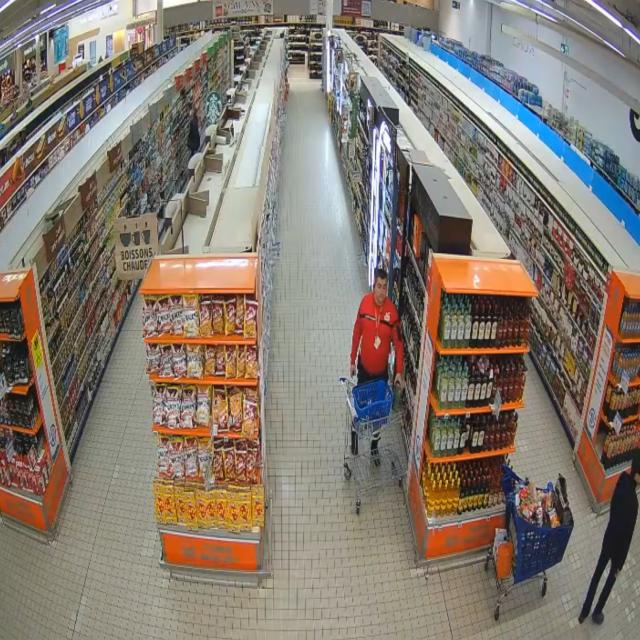article: (392, 383, 401, 412)
hands: (395, 373, 403, 389), (350, 364, 355, 376), (616, 569, 620, 578)
person: (579, 453, 639, 624), (351, 268, 403, 385)
